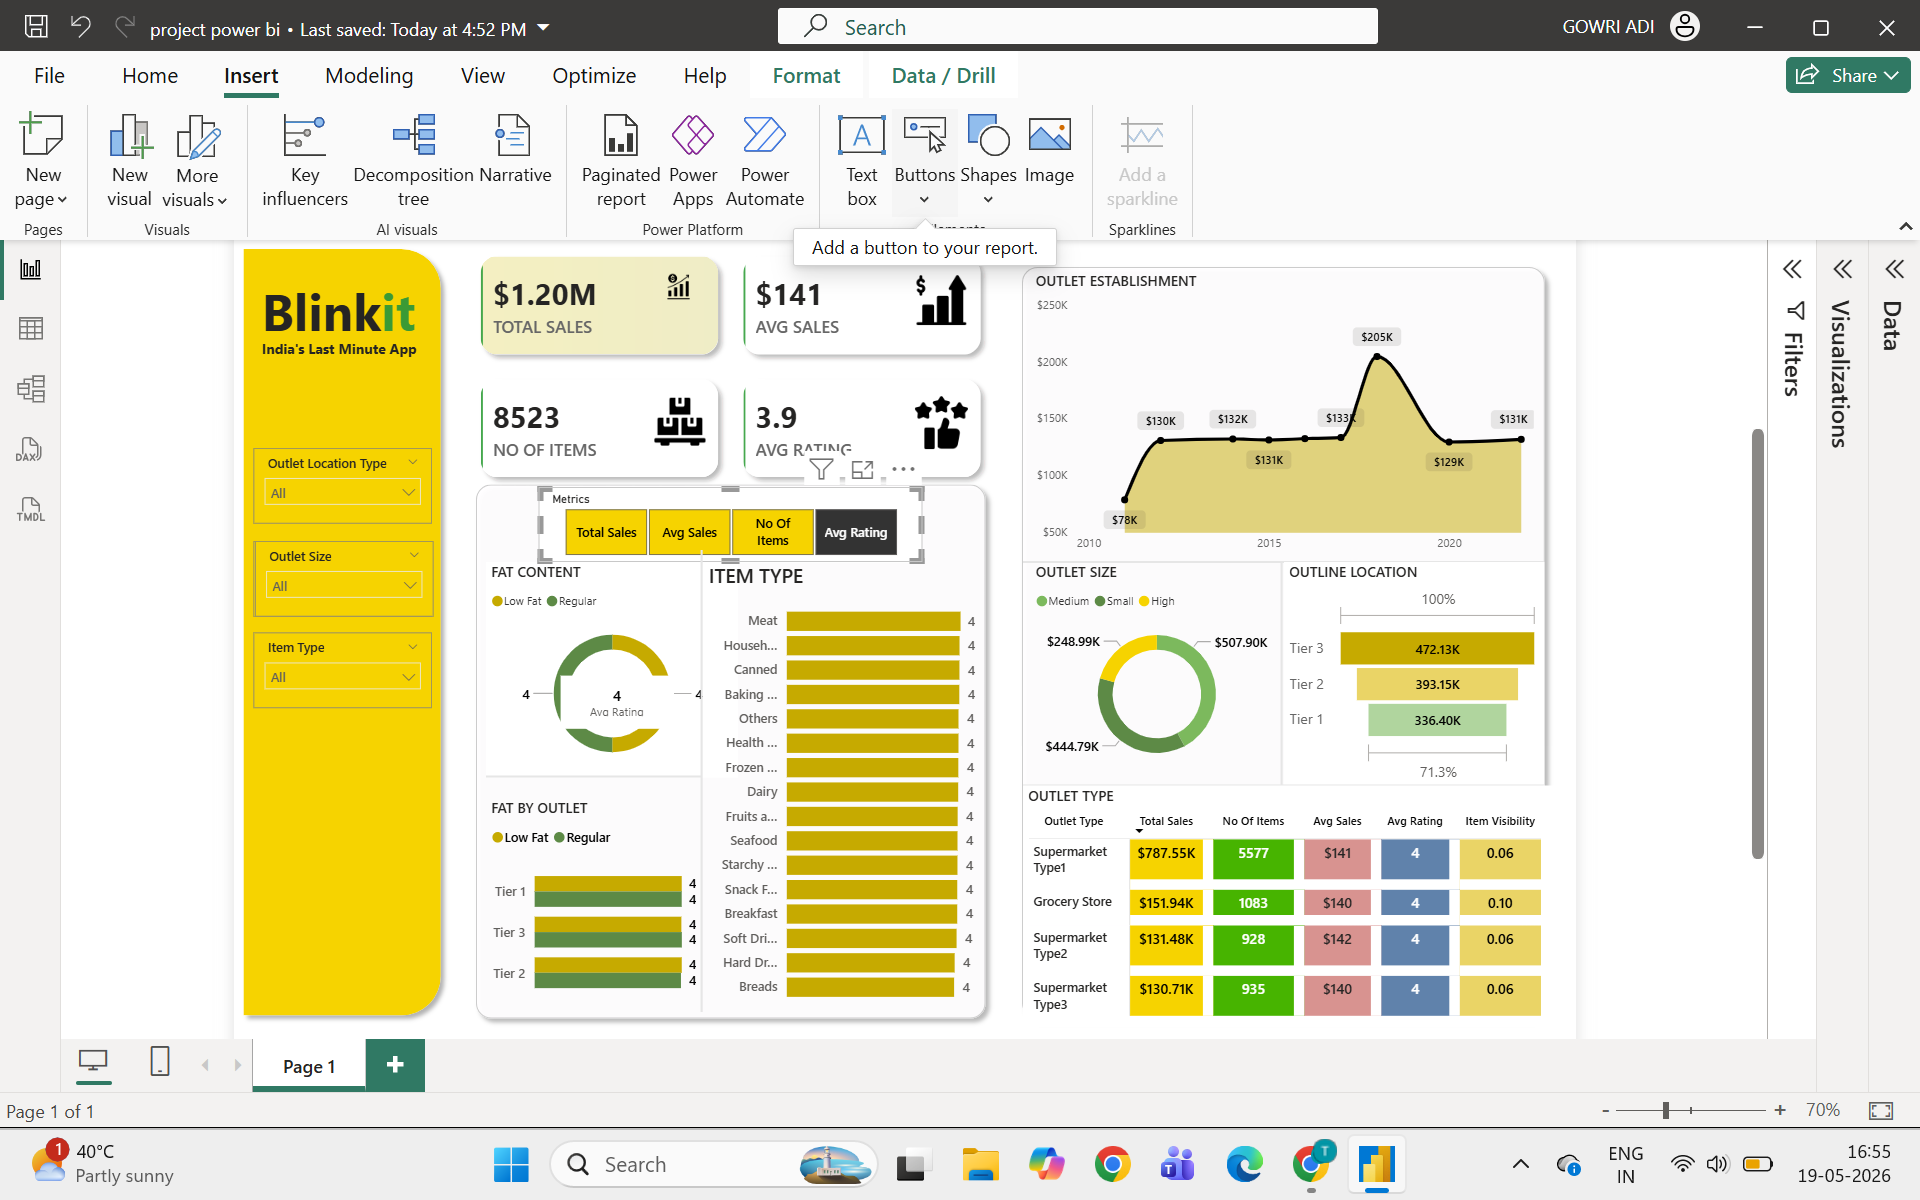

The page's visual inventory and layout, read from the dashboard file:
{"tool":"powerbi","page":{"name":"Page 1","canvas":[1278,1400],"ordinal":0},"visuals":[{"type":"shape","box":[0,322,206,748],"z":0},{"type":"textbox","box":[22,352,166,82],"z":1000},{"type":"textbox","box":[22,410,170,46],"z":2000},{"type":"cardVisual","fields":{"Data":["BlinkIT Grocery Data.Total Sales","BlinkIT Grocery Data.Avg Sales","BlinkIT Grocery Data.No Of Items","BlinkIT Grocery Data.Avg Rating"]},"box":[205,308.3,535,268.3],"z":3000},{"type":"shape","box":[221.7,545,503.3,526.7],"z":4000},{"type":"donutChart","title":"FAT CONTENT","fields":{"Y":["BlinkIT Grocery Data.Avg Rating"],"Category":["BlinkIT Grocery Data.Item Fat Content"]},"box":[240,628.3,240,205],"z":5000},{"type":"slicer","fields":{"Values":["Metrics.Metrics"]},"box":[290,556.7,365,71.7],"z":6000},{"type":"cardVisual","fields":{"Data":["BlinkIT Grocery Data.Avg Rating"]},"box":[305,731.7,118.3,61.7],"z":7000},{"type":"clusteredBarChart","title":"FAT BY OUTLET","fields":{"Y":["BlinkIT Grocery Data.Avg Rating"],"Category":["BlinkIT Grocery Data.Outlet Location Type"],"Series":["BlinkIT Grocery Data.Item Fat Content"]},"box":[240,853.3,205,203.3],"z":8000},{"type":"shape","box":[240,813.3,205,40],"z":9000},{"type":"shape","box":[343.3,616.7,205,440],"z":10000},{"type":"barChart","title":"ITEM TYPE","fields":{"Y":["BlinkIT Grocery Data.Avg Rating"],"Category":["BlinkIT Grocery Data.Item Type"]},"box":[446.7,628.3,263.3,428.3],"z":11000},{"type":"shape","box":[742,338,516,734],"z":12000},{"type":"lineChart","title":"OUTLET ESTABLISHMENT","fields":{"Y":["BlinkIT Grocery Data.Total Sales"],"Category":["BlinkIT Grocery Data.Outlet Establishment Year"]},"box":[758,352,484,276],"z":13000},{"type":"shape","box":[752,608,496,40],"z":14000},{"type":"donutChart","title":"OUTLET SIZE","fields":{"Y":["BlinkIT Grocery Data.Total Sales"],"Category":["BlinkIT Grocery Data.Outlet Size"]},"box":[758,628,240,206],"z":15000},{"type":"shape","box":[896,628,204,214],"z":16000},{"type":"funnel","title":"OUTLINE LOCATION","fields":{"Y":["Sum(BlinkIT Grocery Data.Sales)"],"Category":["BlinkIT Grocery Data.Outlet Location Type"]},"box":[1000,628,248,214],"z":17000},{"type":"shape","box":[752,822,496,40],"z":18000},{"type":"pivotTable","title":"OUTLET TYPE","fields":{"Rows":["BlinkIT Grocery Data.Outlet Type"],"Values":["BlinkIT Grocery Data.Total Sales","BlinkIT Grocery Data.No Of Items","BlinkIT Grocery Data.Avg Sales","BlinkIT Grocery Data.Avg Rating","Avg(BlinkIT Grocery Data.Item Visibility)"]},"box":[752,842,506,230],"z":19000},{"type":"slicer","fields":{"Values":["BlinkIT Grocery Data.Outlet Location Type"]},"box":[18,520,170,72],"z":20000},{"type":"slicer","fields":{"Values":["BlinkIT Grocery Data.Outlet Size"]},"box":[18,608,170,72],"z":21000},{"type":"slicer","fields":{"Values":["BlinkIT Grocery Data.Item Type"]},"box":[18,696,170,72],"z":22000},{"type":"slicer","fields":{"Values":["BlinkIT Grocery Data.Outlet Size"]},"box":[20,608,170,72],"z":23000},{"type":"textbox","box":[0,146,206,72],"z":24000}]}

Visuals, with their boxes on the page's 1278x1400 design canvas (x1, y1, x2, y2). These are canvas units, not pixel positions in the 1920x1200 screenshot, which may show the page scaled, cropped or inside an application window:
shape: x1=0 y1=322 x2=206 y2=1070
textbox: x1=22 y1=352 x2=188 y2=434
textbox: x1=22 y1=410 x2=192 y2=456
cardVisual - BlinkIT Grocery Data.Total Sales x BlinkIT Grocery Data.Avg Sales: x1=205 y1=308 x2=740 y2=577
shape: x1=222 y1=545 x2=725 y2=1072
"FAT CONTENT" donutChart: x1=240 y1=628 x2=480 y2=833
slicer - Metrics.Metrics: x1=290 y1=557 x2=655 y2=628
cardVisual - BlinkIT Grocery Data.Avg Rating: x1=305 y1=732 x2=423 y2=793
"FAT BY OUTLET" clusteredBarChart: x1=240 y1=853 x2=445 y2=1057
shape: x1=240 y1=813 x2=445 y2=853
shape: x1=343 y1=617 x2=548 y2=1057
"ITEM TYPE" barChart: x1=447 y1=628 x2=710 y2=1057
shape: x1=742 y1=338 x2=1258 y2=1072
"OUTLET ESTABLISHMENT" lineChart: x1=758 y1=352 x2=1242 y2=628
shape: x1=752 y1=608 x2=1248 y2=648
"OUTLET SIZE" donutChart: x1=758 y1=628 x2=998 y2=834
shape: x1=896 y1=628 x2=1100 y2=842
"OUTLINE LOCATION" funnel: x1=1000 y1=628 x2=1248 y2=842
shape: x1=752 y1=822 x2=1248 y2=862
"OUTLET TYPE" pivotTable: x1=752 y1=842 x2=1258 y2=1072
slicer - BlinkIT Grocery Data.Outlet Location Type: x1=18 y1=520 x2=188 y2=592
slicer - BlinkIT Grocery Data.Outlet Size: x1=18 y1=608 x2=188 y2=680
slicer - BlinkIT Grocery Data.Item Type: x1=18 y1=696 x2=188 y2=768
slicer - BlinkIT Grocery Data.Outlet Size: x1=20 y1=608 x2=190 y2=680
textbox: x1=0 y1=146 x2=206 y2=218
